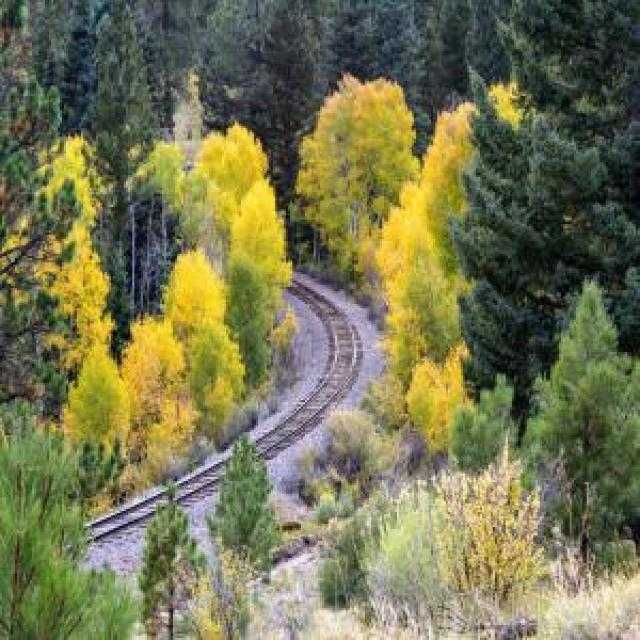rail: (26, 272, 374, 578)
